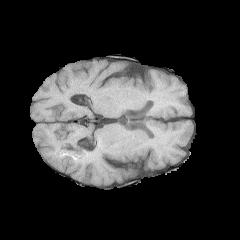glioma: (58, 143, 98, 173)
